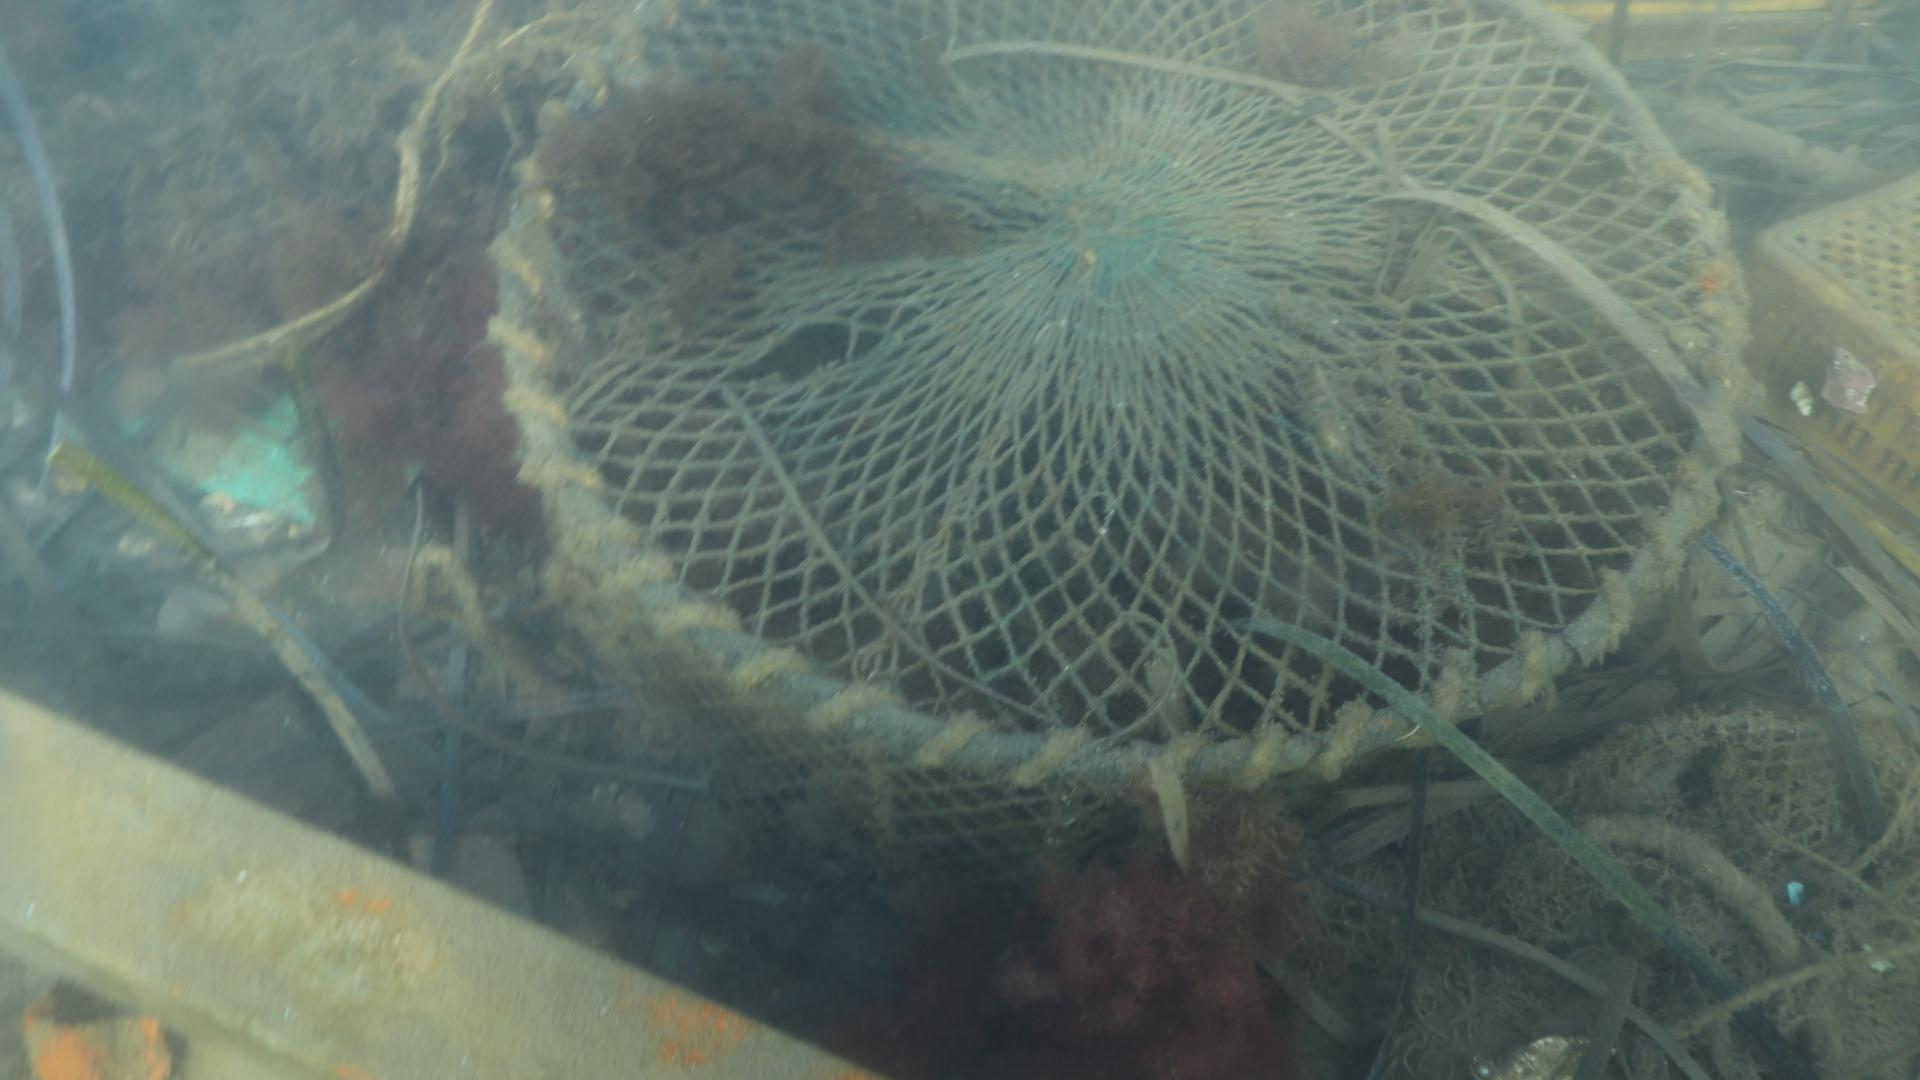circular fish trap: (485, 0, 1753, 920)
